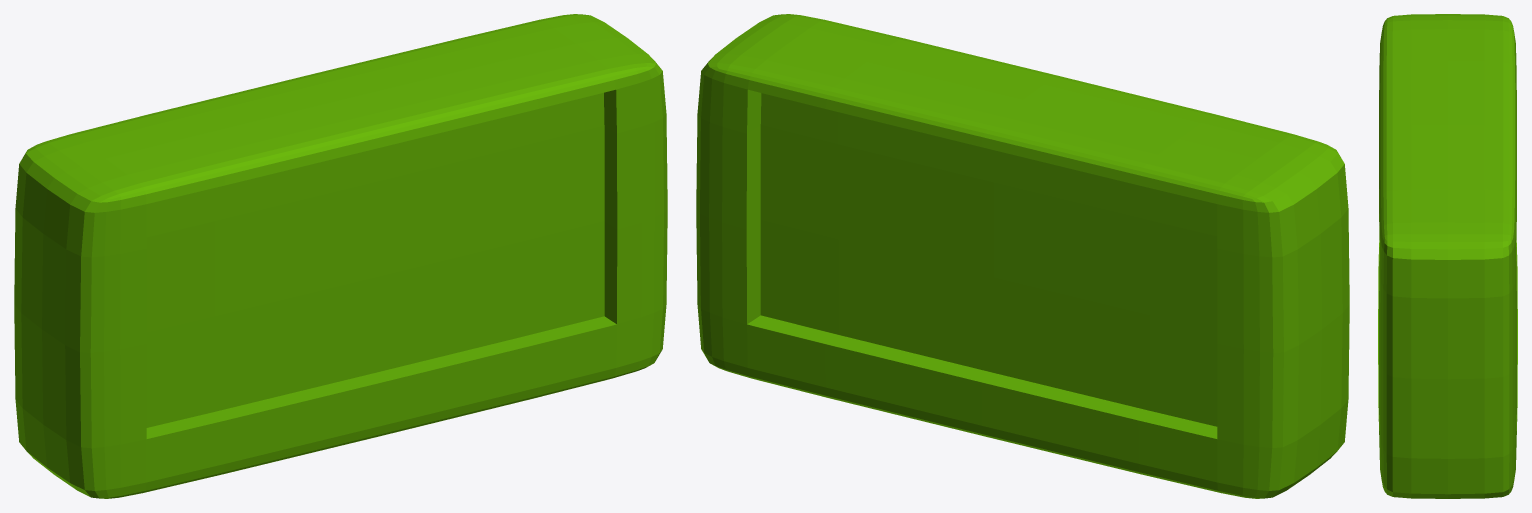
Rendered from Obstacle 2.fbx.
3 renders of one model, left to right at view 1: azimuth 30°, elevation 25°; view 2: azimuth 150°, elevation 25°; view 3: azimuth 270°, elevation 25°, orthographic. The views are drawn at different scales.
Visible parts, largest first — view 1: Obstacle lebar; view 2: Obstacle lebar; view 3: Obstacle lebar.
Part boxes in pixels (x1,y1,x2,y2): Obstacle lebar: [14, 14, 667, 498]; Obstacle lebar: [696, 14, 1349, 498]; Obstacle lebar: [1378, 14, 1517, 498].
Size of the model in its own units: 456 by 228 by 110.
